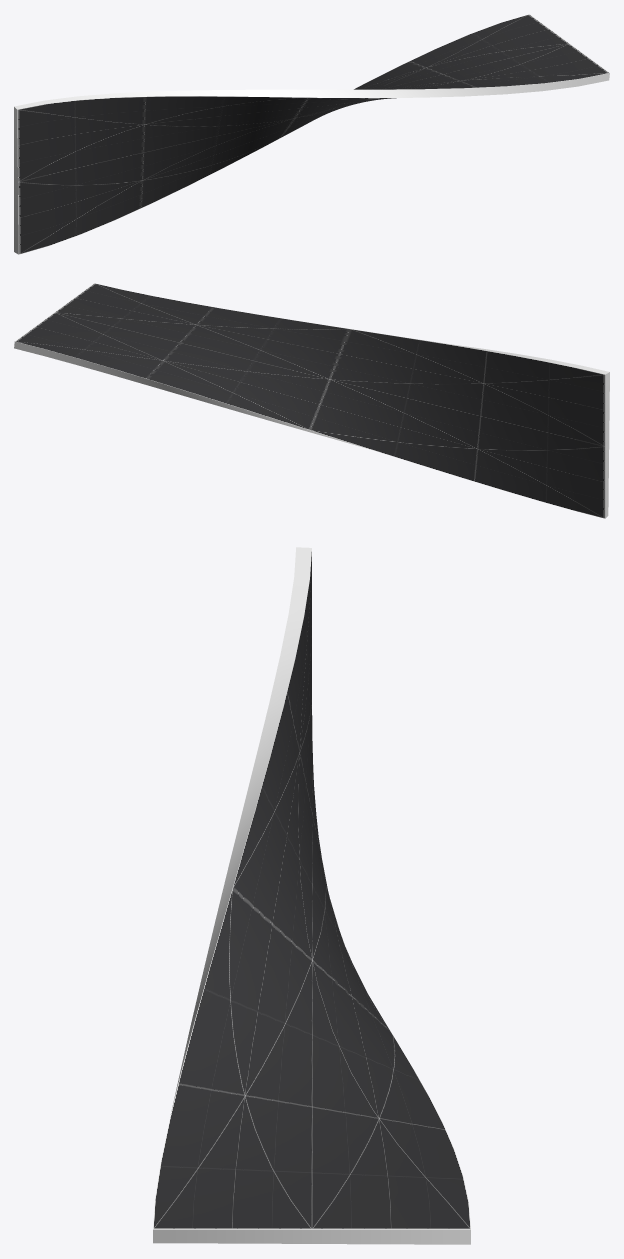
Rendered from TiltTransitionRightLong.glb.
3 views of the same model, one above another, from view 1: azimuth 30°, elevation 25°; view 2: azimuth 150°, elevation 25°; view 3: azimuth 270°, elevation 25° (orthographic). The views are drawn at different scales.
Parts seen in each view (by area): view 1: TiltTransitionRightLong; view 2: TiltTransitionRightLong; view 3: TiltTransitionRightLong.
Part boxes in pixels (x1,y1,x2,y2): TiltTransitionRightLong: (14,14,609,254); TiltTransitionRightLong: (14,283,609,518); TiltTransitionRightLong: (153,547,470,1244).
Size of the model in its own units: 40.11 by 10 by 10.
Materials: 1 (1 with a texture image).
